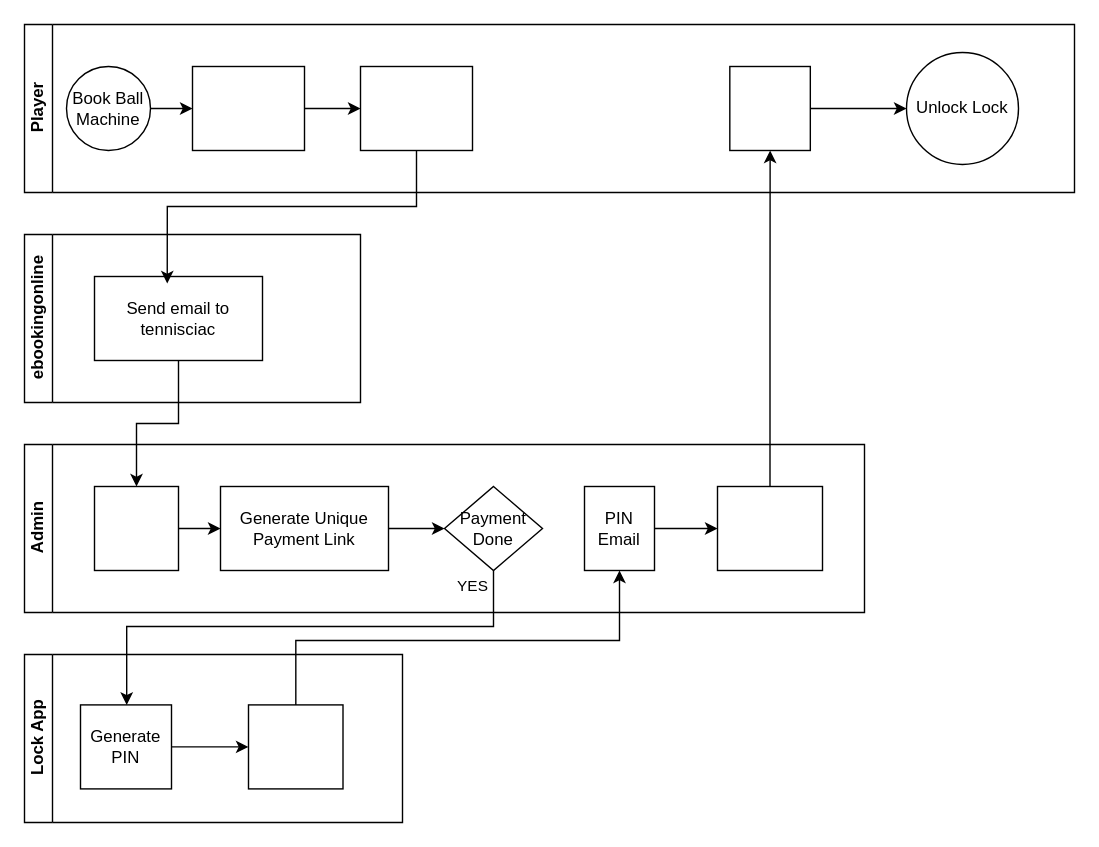
This 1099x847 diagram has some shape labels left out. The centre of each missing label's shape, as x and y in pixels:
Add "Ball Machine": [415,107]
Court Booking: [247,107]
Get PIN: [769,107]
Read Email: [135,527]
Send Pin: [295,746]
Send PIN to member: [769,527]
